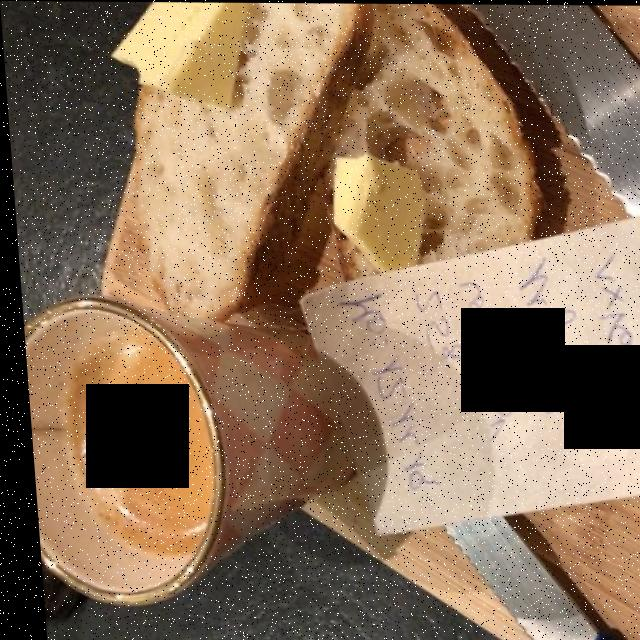bread-white: (129, 9, 540, 309)
coffee-with-caffeine: (69, 342, 204, 553)
